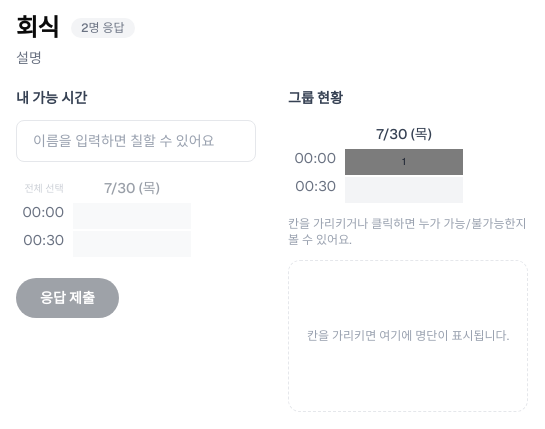
Test: PollView (save message) › shows the saved message beside the submit button, not above the panels
The image size is (545, 429).
Type "민수" into the field labelled "이름" at (136, 141), box x1=16 y1=120 x2=256 y2=162
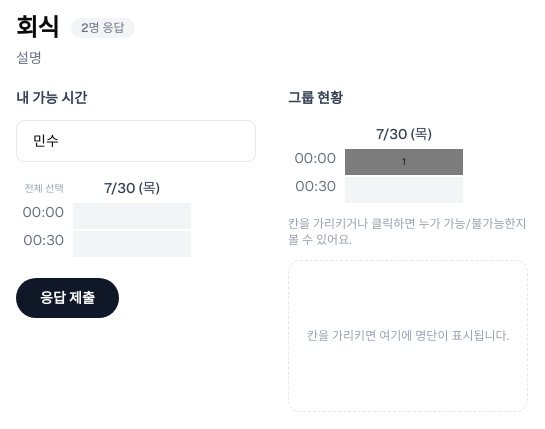
Click the button "응답 제출" at (67, 298), box x1=16 y1=278 x2=119 y2=318
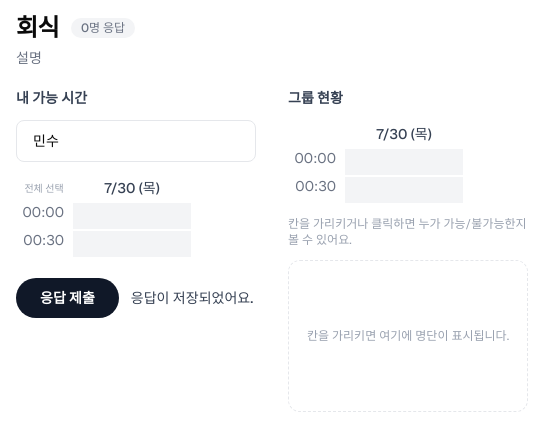
Now the message reads "응답이 저장되었어요.", box x1=131 y1=289 x2=253 y2=307
